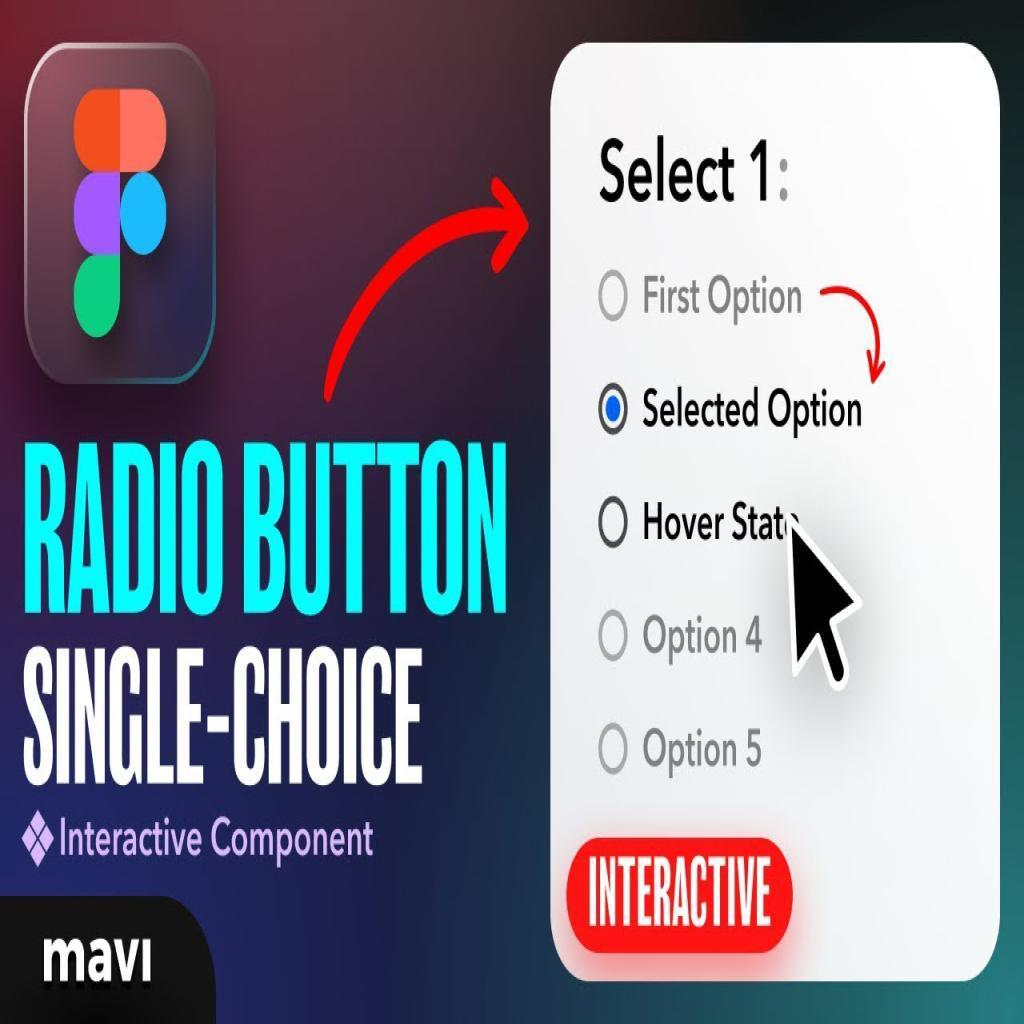button: (1, 896, 217, 1022), (568, 837, 795, 954)
label: (637, 382, 864, 437), (638, 271, 804, 328), (640, 721, 776, 778), (641, 607, 769, 667), (642, 500, 786, 549)
radio: (596, 608, 631, 668), (598, 379, 632, 437), (597, 722, 630, 779), (597, 269, 630, 325), (598, 493, 630, 550)
